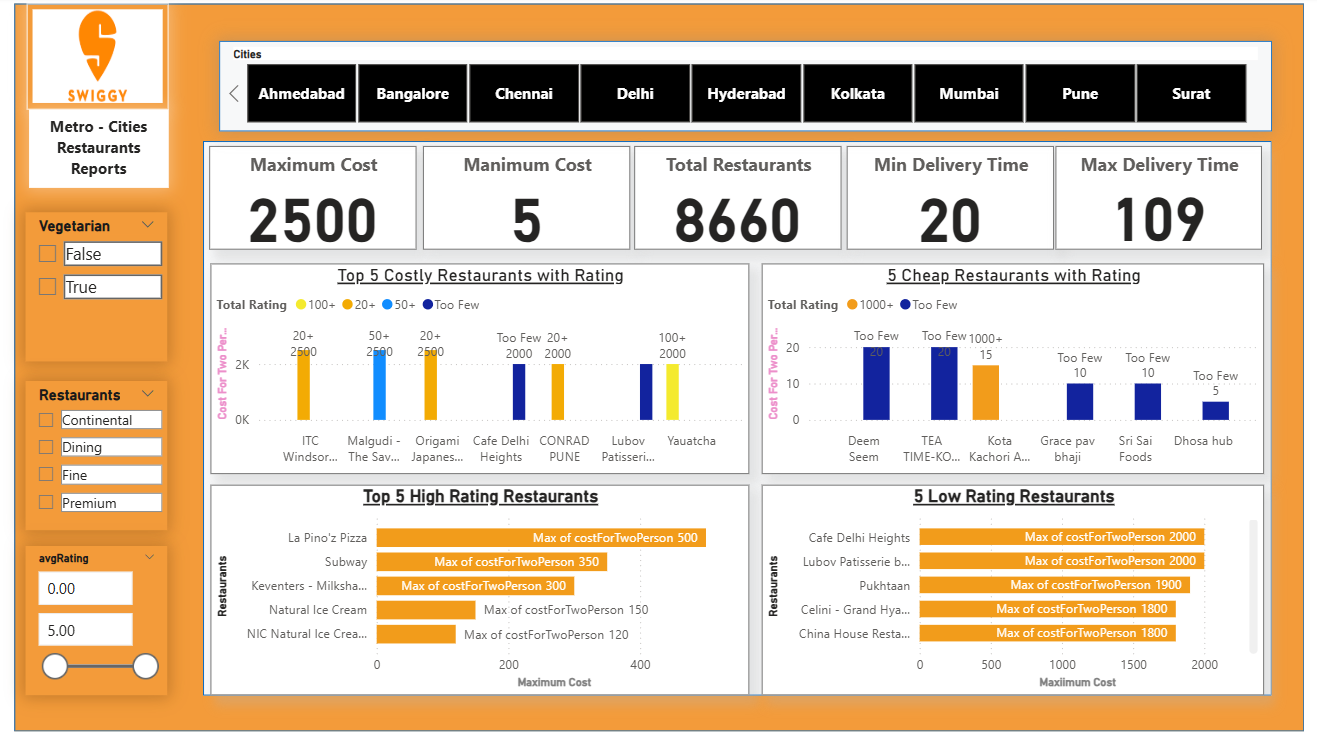

The page's visual inventory and layout, read from the dashboard file:
{"tool":"powerbi","page":{"name":"Page 1","canvas":[1280,720],"ordinal":0},"visuals":[{"type":"shape","box":[0,0,1279.7,719.9],"z":0},{"type":"shape","box":[188.3,130,1033.3,565],"z":1000},{"type":"shape","box":[15.9,7.2,1245.1,702.6],"z":2000},{"type":"shape","box":[197.7,139.9,1031.6,535.3],"z":3000},{"type":"card","fields":{"Values":["Max(Swiggy_Final_Data.costForTwoPerson)"]},"box":[204.3,144.3,200,100],"z":4000},{"type":"card","fields":{"Values":["Min(Swiggy_Final_Data.costForTwoPerson)"]},"box":[410,144.3,200,100],"z":5000},{"type":"card","fields":{"Values":["CountNonNull(Swiggy_Final_Data.id)"]},"box":[614,145,200,100],"z":6000},{"type":"card","fields":{"Values":["Min(Swiggy_Final_Data.minDeliveryTime)"]},"box":[819,144.3,200,100],"z":7000},{"type":"card","fields":{"Values":["Max(Swiggy_Final_Data.minDeliveryTime)"]},"box":[1021,145.2,199.4,99.7],"z":8000},{"type":"clusteredColumnChart","title":"Top 5 Costly Restaurants with Rating","fields":{"Category":["Swiggy_Final_Data.name"],"Y":["Max(Swiggy_Final_Data.costForTwoPerson)"],"Series":["Swiggy_Final_Data.totalRatingsString"]},"box":[205,258.3,520,203.3],"z":9000},{"type":"clusteredColumnChart","title":" 5 Cheap Restaurants with Rating","fields":{"Category":["Swiggy_Final_Data.name"],"Y":["Min(Swiggy_Final_Data.costForTwoPerson)"],"Series":["Swiggy_Final_Data.totalRatingsString"]},"box":[736.7,258.3,485,203.3],"z":10000},{"type":"clusteredBarChart","title":"Top  5 High Rating Restaurants ","fields":{"Category":["Swiggy_Final_Data.name"],"Y":["Max(Swiggy_Final_Data.costForTwoPerson)"]},"box":[205,471.7,520,203.3],"z":11000},{"type":"clusteredBarChart","title":" 5 Low Rating Restaurants ","fields":{"Category":["Swiggy_Final_Data.name"],"Y":["Max(Swiggy_Final_Data.costForTwoPerson)"]},"box":[736.7,471.7,485,203.3],"z":12000},{"type":"image","box":[27.4,7.2,137.1,102.4],"z":13000},{"type":"textbox","box":[30.3,109.6,134.2,75],"z":14000},{"type":"slicer","fields":{"Values":["Swiggy_Final_Data.city"]},"box":[213.5,43.4,1015.8,86.9],"z":15000},{"type":"slicer","fields":{"Values":["Swiggy_Final_Data.Vegetarian"]},"box":[26.7,208.2,137,144],"z":16000},{"type":"slicer","fields":{"Values":["Swiggy_Final_Data.Restaurants Type"]},"box":[26.7,371,137,144.2],"z":17000},{"type":"slicer","fields":{"Values":["Swiggy_Final_Data.avgRating"]},"box":[26,530.4,137,144.2],"z":18000}]}

Visuals, with their boxes in screenshot pixels (x1, y1, x2, y2), scaled from the page's 1280x720 canvas onto the 1317x736 screenshot:
shape: bbox=(0, 0, 1316, 735)
shape: bbox=(194, 133, 1257, 710)
shape: bbox=(16, 7, 1297, 726)
shape: bbox=(203, 143, 1265, 690)
card - Max(Swiggy_Final_Data.costForTwoPerson): bbox=(210, 148, 416, 250)
card - Min(Swiggy_Final_Data.costForTwoPerson): bbox=(422, 148, 628, 250)
card - CountNonNull(Swiggy_Final_Data.id): bbox=(632, 148, 838, 250)
card - Min(Swiggy_Final_Data.minDeliveryTime): bbox=(843, 148, 1048, 250)
card - Max(Swiggy_Final_Data.minDeliveryTime): bbox=(1051, 148, 1256, 250)
"Top 5 Costly Restaurants with Rating" clusteredColumnChart: bbox=(211, 264, 746, 472)
" 5 Cheap Restaurants with Rating" clusteredColumnChart: bbox=(758, 264, 1257, 472)
"Top  5 High Rating Restaurants " clusteredBarChart: bbox=(211, 482, 746, 690)
" 5 Low Rating Restaurants " clusteredBarChart: bbox=(758, 482, 1257, 690)
image: bbox=(28, 7, 169, 112)
textbox: bbox=(31, 112, 169, 189)
slicer - Swiggy_Final_Data.city: bbox=(220, 44, 1265, 133)
slicer - Swiggy_Final_Data.Vegetarian: bbox=(27, 213, 168, 360)
slicer - Swiggy_Final_Data.Restaurants Type: bbox=(27, 379, 168, 527)
slicer - Swiggy_Final_Data.avgRating: bbox=(27, 542, 168, 690)
